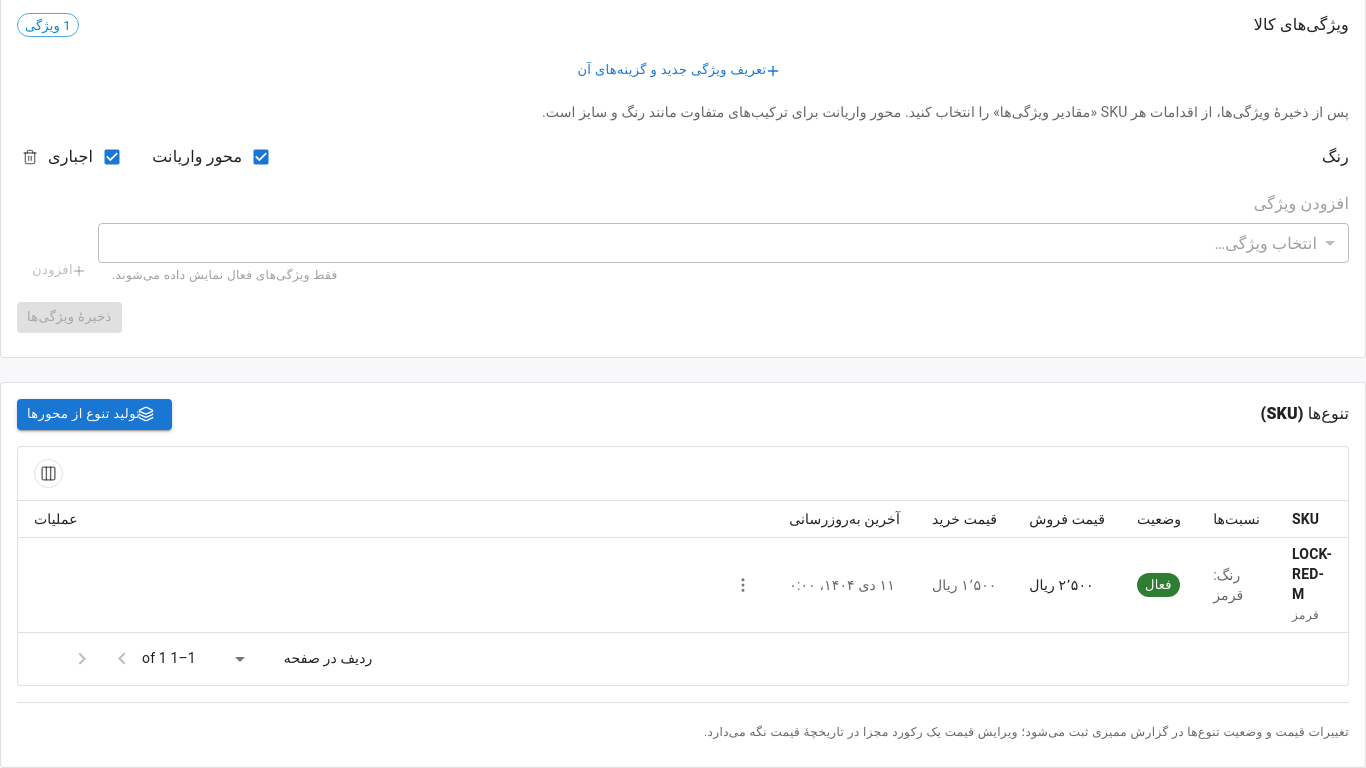
it: ProductDetailView › opens the variant generation dialog for writers
(page scrolled)
Click the button "تولید تنوع از محورها" at (95,414), box left=17, top=399, right=172, bottom=430
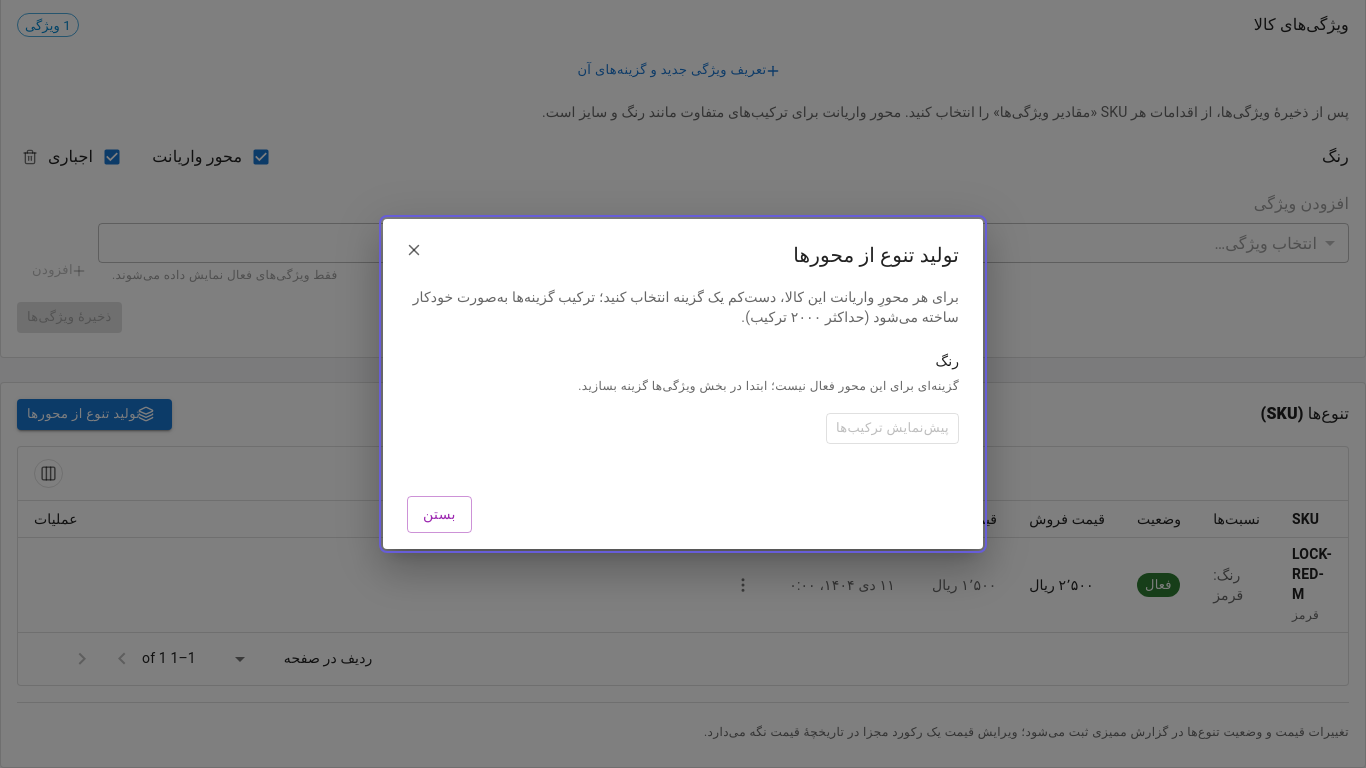
Check: the dialog "تولید تنوع از محورها" is shown, box left=383, top=219, right=983, bottom=549
